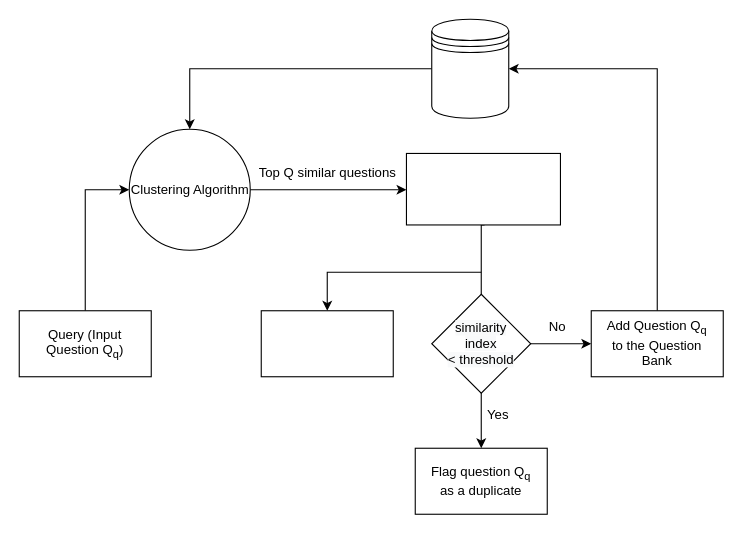
Image size: 743x534. Some labels were removed from this diagram. The shapes that lost their labels are listed below. From the top down, each one's centre as x and y in pixels, then its label:
(470,68): Question Bank
(482,188): Pairwise comparison (Q q ,Q i ), ∀ Q i ∈ Q in Deep Learning Model
(326,343): Top K similar questions based on similarity index
